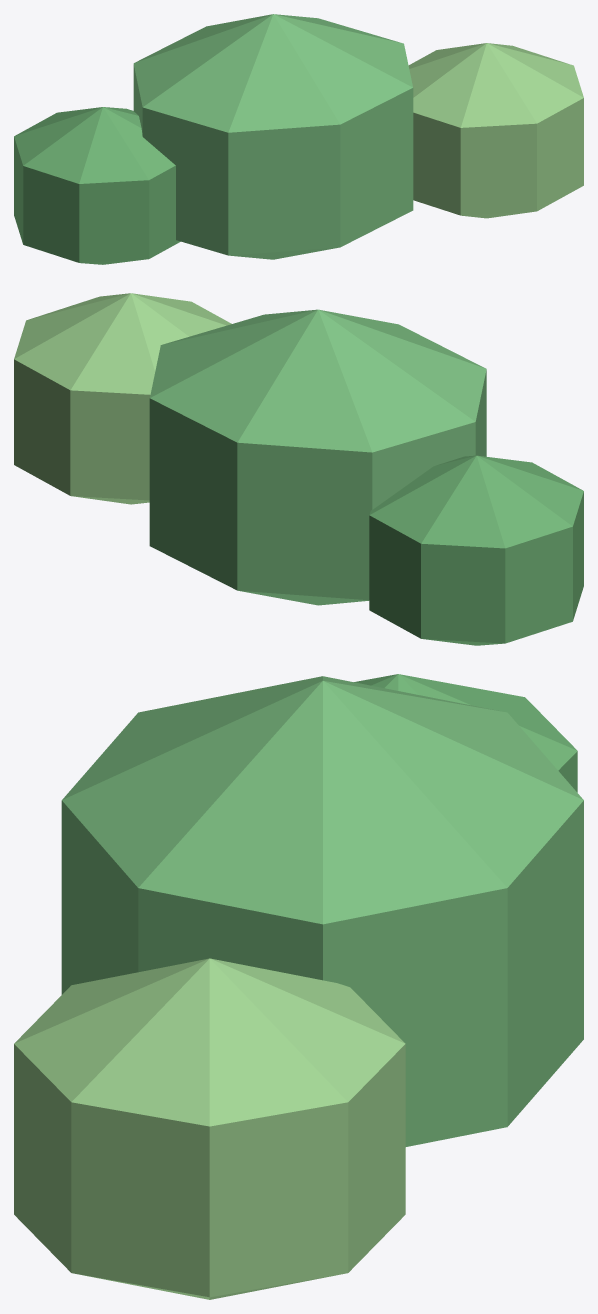
File: shrubs_tropical.glb
3 renders of one model, top to bottom at view 1: azimuth 30°, elevation 25°; view 2: azimuth 150°, elevation 25°; view 3: azimuth 270°, elevation 25°, orthographic. The views are drawn at different scales.
Visible parts, largest first — view 1: shrubs_tropical; view 2: shrubs_tropical; view 3: shrubs_tropical.
Part boxes in pixels (x1,y1,x2,y2): shrubs_tropical: (14, 14, 583, 264); shrubs_tropical: (14, 293, 583, 645); shrubs_tropical: (14, 674, 583, 1299).
Bounding box in the file's own units: 3 × 1.4 × 1.51.
